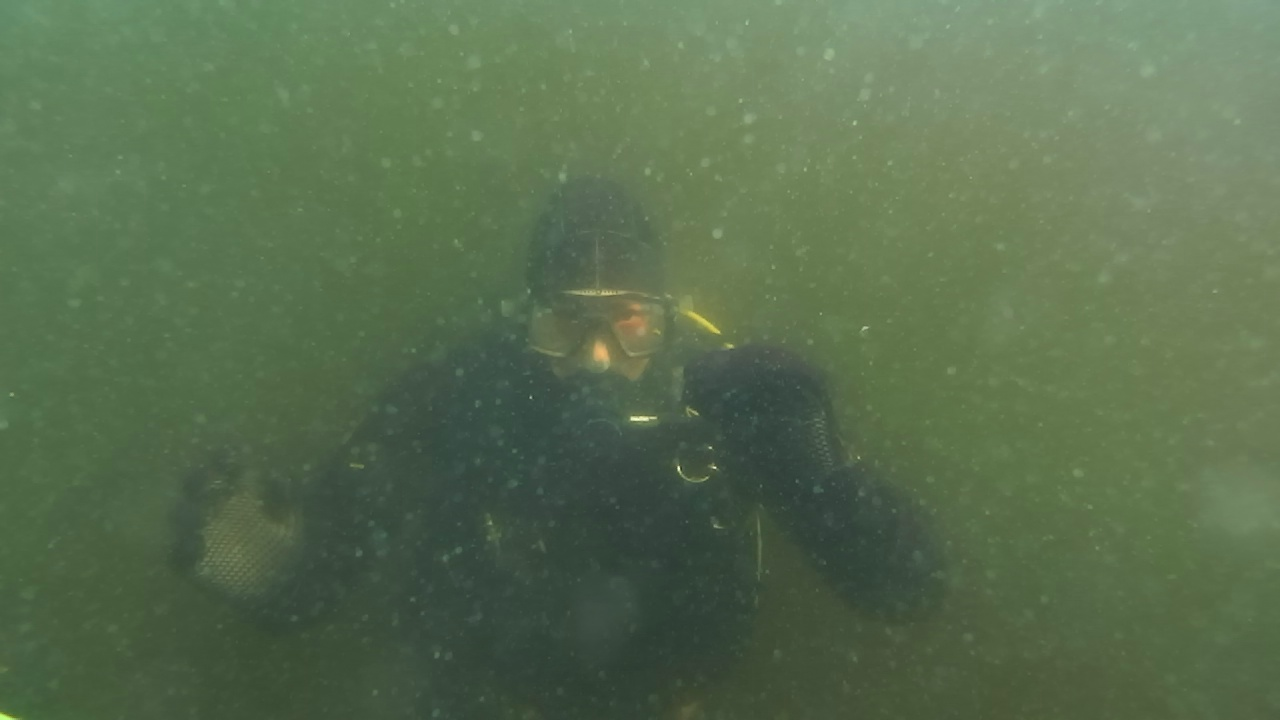Diver: (122, 120, 1042, 690)
Hand: (662, 326, 882, 560), (160, 428, 350, 620)
Head: (482, 160, 694, 440)
